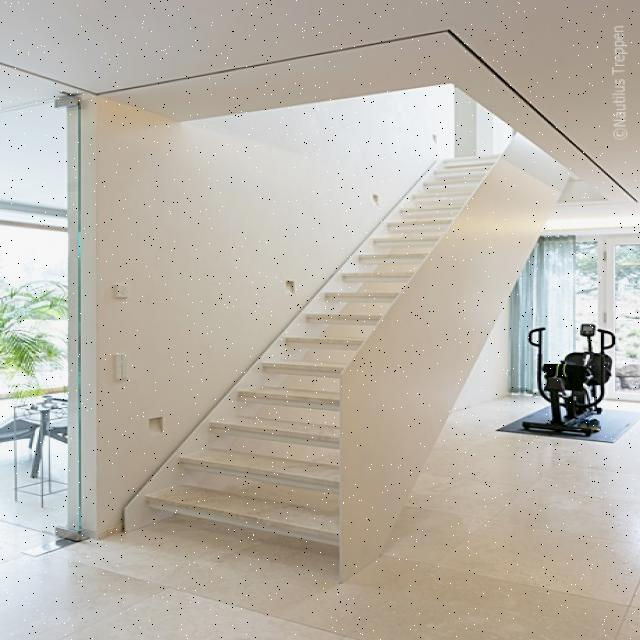stairs: (134, 149, 506, 561)
